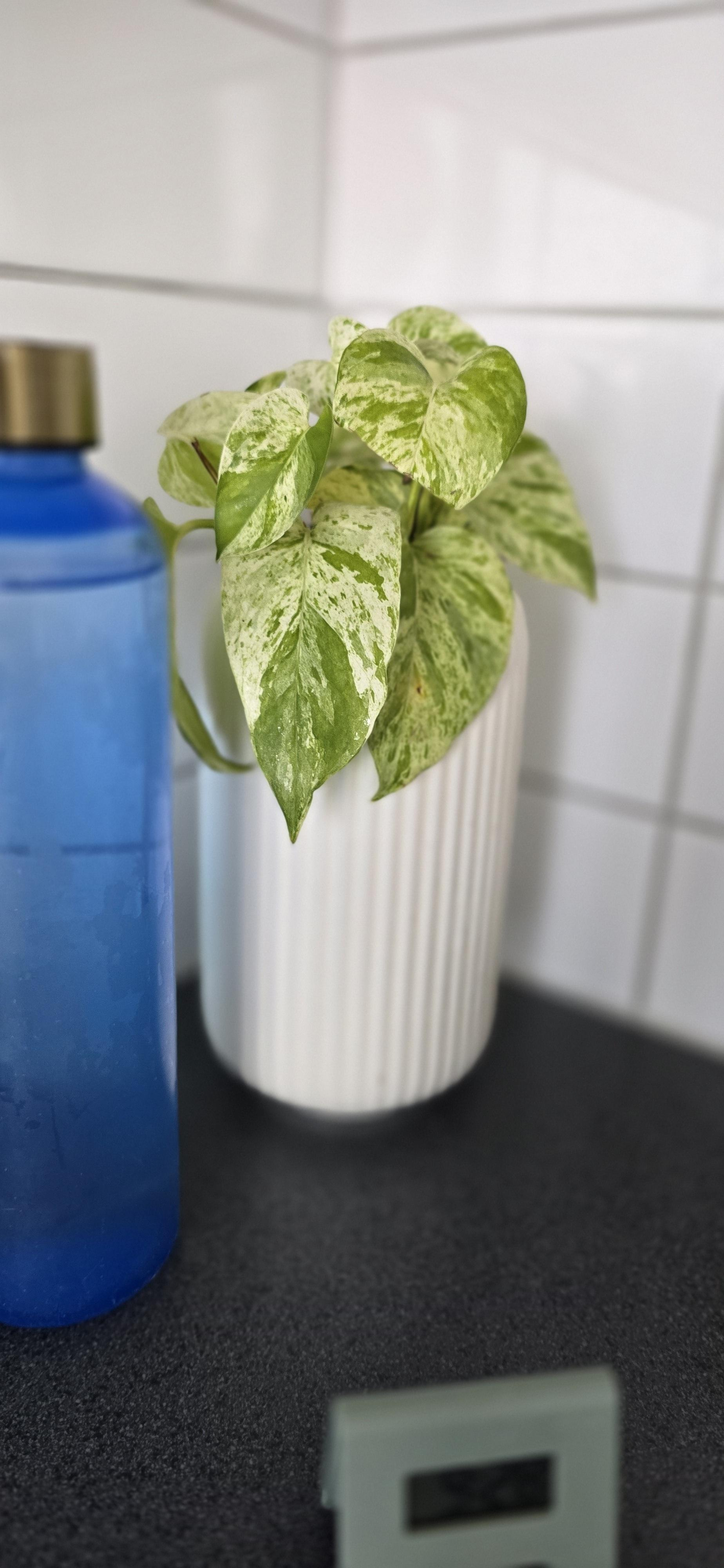bottle: (0, 334, 185, 1317)
